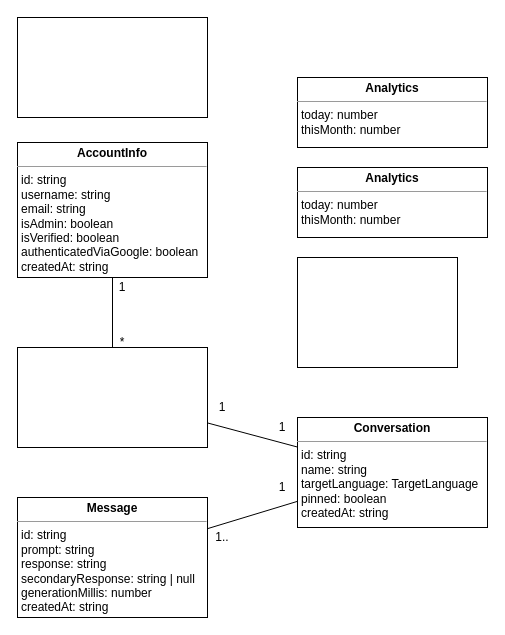
The diagram is 505 pixels wide and 635 high, and some of its shapes have lost their labels. Here are the shapes that lost their labels. From the top down, the centre of each, then its label:
[112,67]: «enum» TargetLanguage SPICE , PYTHON , JAVA
[377,312]: Maybe<Y, N> isYes: boolean isNo: boolean yes(): Y no(): N
[112,397]: LLMConfig id: string name: string url: string hasApiKey: boolean
